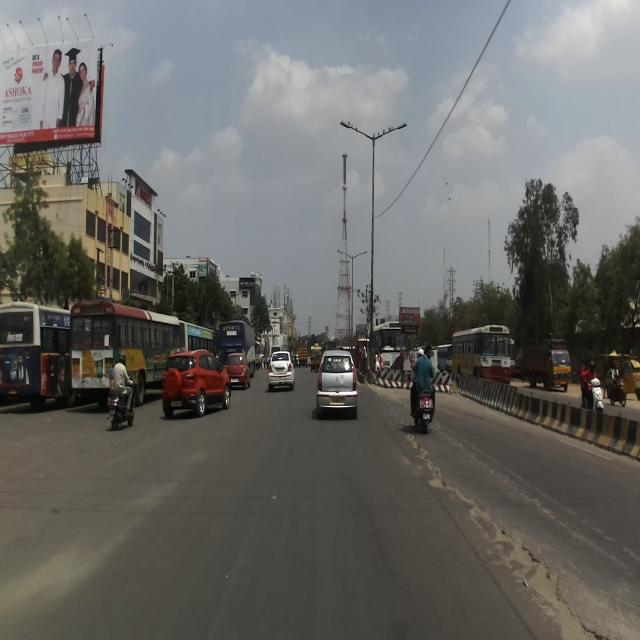bus: (69, 299, 182, 408)
car: (162, 348, 230, 418), (314, 347, 358, 420), (267, 349, 295, 392)
scooter: (406, 368, 440, 432), (106, 372, 136, 430)
truck: (520, 332, 572, 390)
